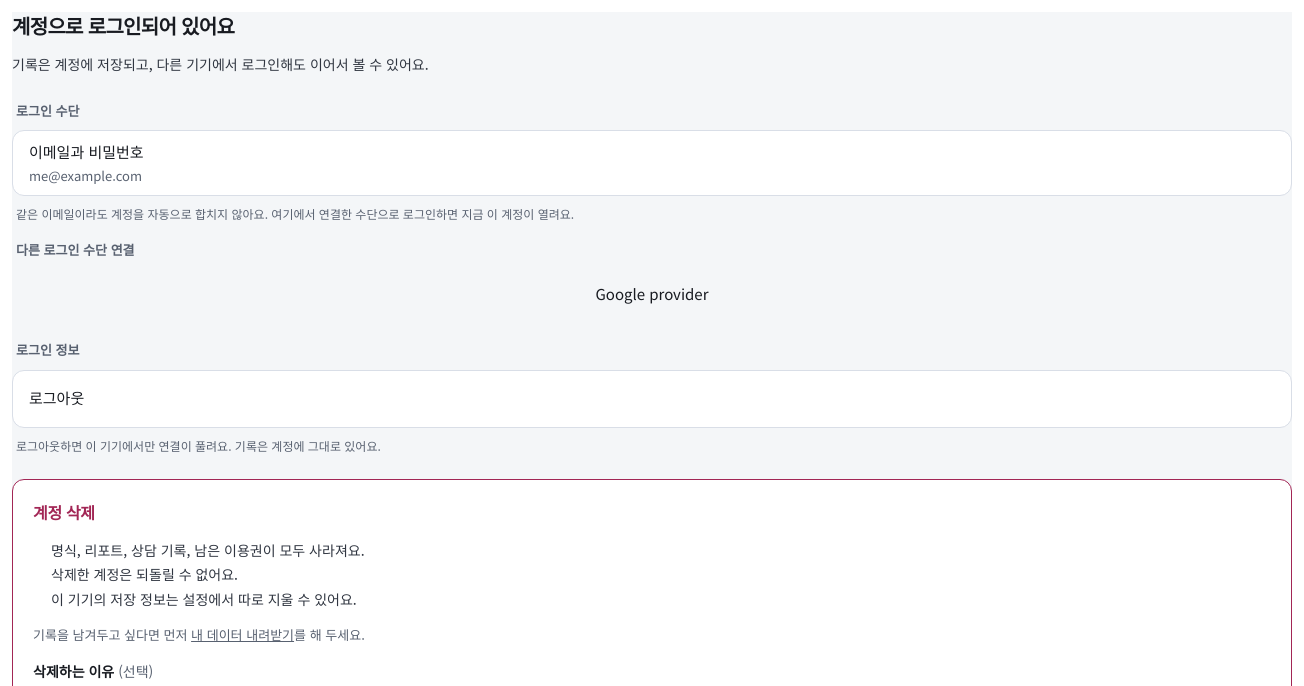
Test: account login methods › links a provider credential to this account and refreshes the list
The image size is (1304, 686).
Step 1. Click the button "Google provider" → (652, 294), box [596,272,708,316]
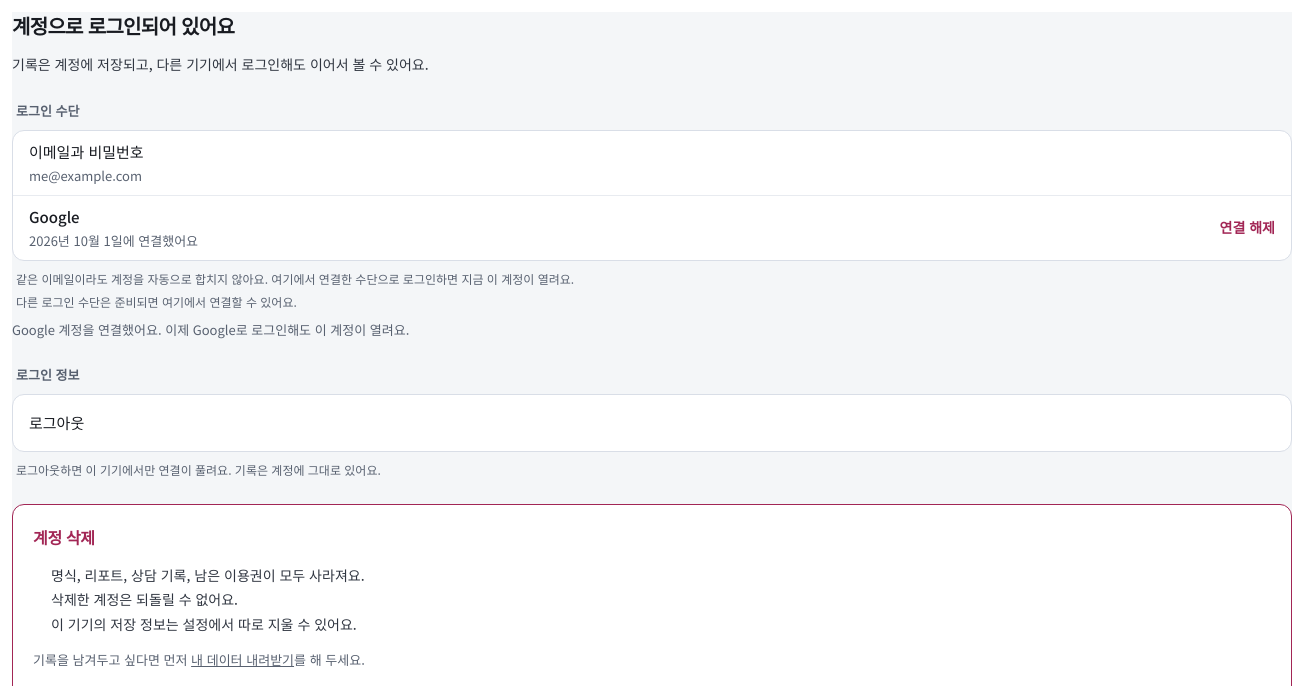
Expected: the message reads "Google 계정을 연결했어요. 이제 Google로 로그인해도 이 계정이 열려요.", [12,320,409,339]
Expected: the button with aria-label "Google 연결 해제" is shown, [1220,206,1275,250]
Expected: the button "Google provider" is gone
